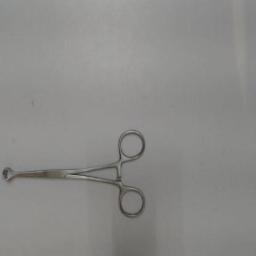Babcock Tissue Forceps: (2, 128, 148, 224)
